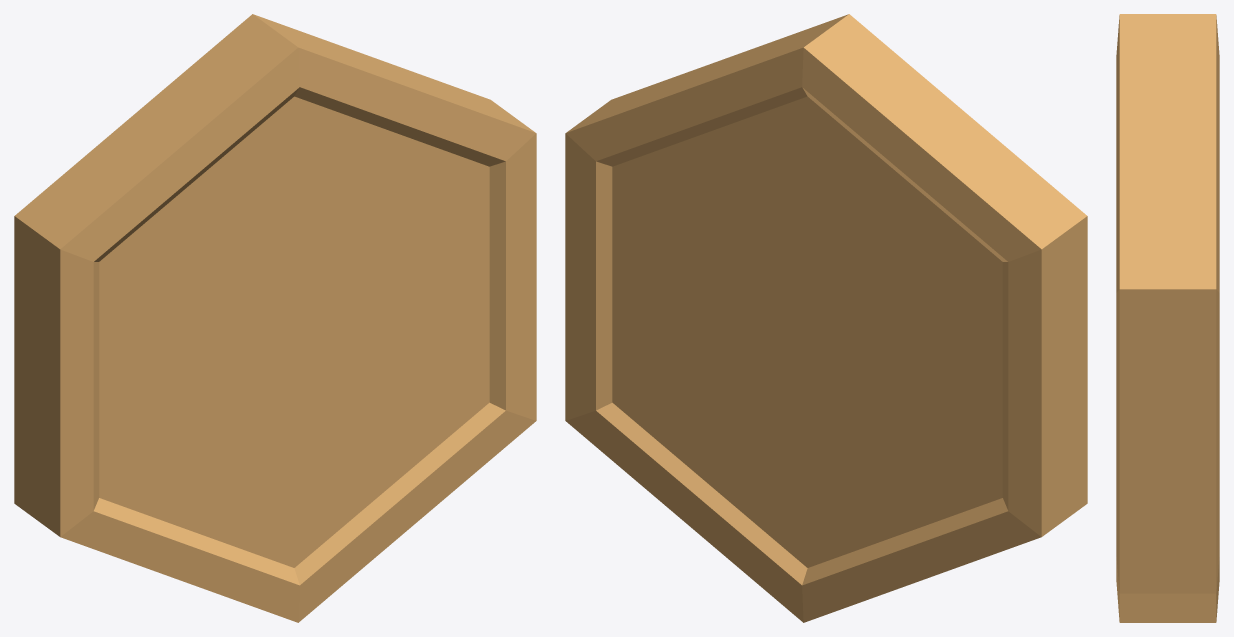
Rendered from coin.fbx.
The picture shows the model from 3 angles, left to right: view 1: azimuth 30°, elevation 25°; view 2: azimuth 150°, elevation 25°; view 3: azimuth 270°, elevation 25°; orthographic projection. The views are drawn at different scales.
Visible parts, largest first — view 1: Coin; view 2: Coin; view 3: Coin.
Boxes of the visible parts, x1=… form: Coin: x1=14, y1=14, x2=536, y2=622; Coin: x1=565, y1=14, x2=1087, y2=622; Coin: x1=1116, y1=14, x2=1219, y2=622.
Bounding box in the file's own units: 53.72 × 62.03 × 9.51.
